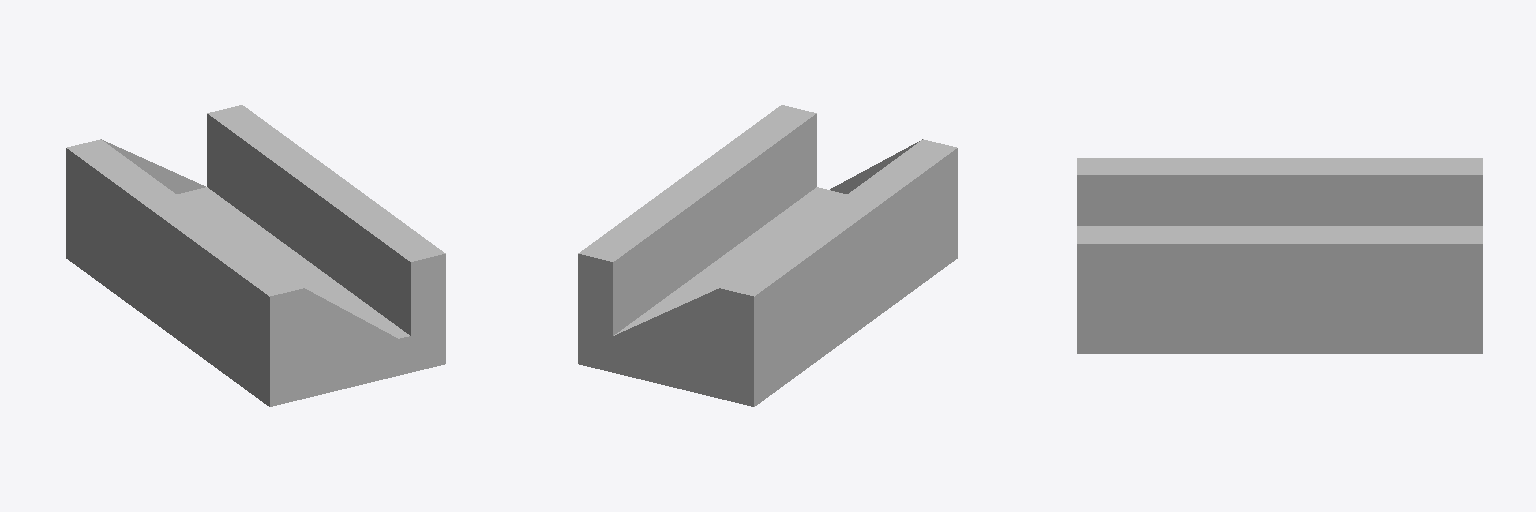
Rendered from StraightThin_.obj.
3 views of the same model, side by side, from view 1: azimuth 30°, elevation 25°; view 2: azimuth 150°, elevation 25°; view 3: azimuth 270°, elevation 25° (orthographic).
Visible parts, largest first — view 1: StraightThin_; view 2: StraightThin_; view 3: StraightThin_.
Part boxes in pixels (x1,y1,x2,y2): StraightThin_: (66, 105, 445, 406); StraightThin_: (578, 105, 957, 406); StraightThin_: (1077, 158, 1482, 353).
Bounding box in the file's own units: 1 × 0.6 × 2.